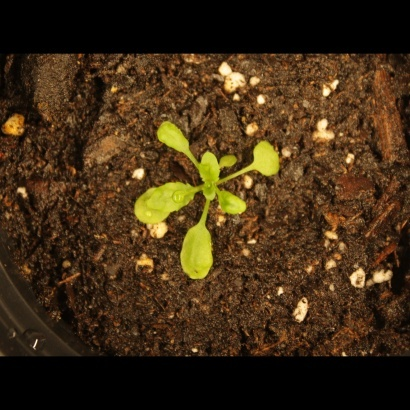leaf: (129, 176, 197, 228), (174, 218, 219, 285), (244, 134, 290, 180), (155, 117, 193, 158), (216, 187, 253, 221), (197, 146, 223, 192), (221, 149, 244, 172)
